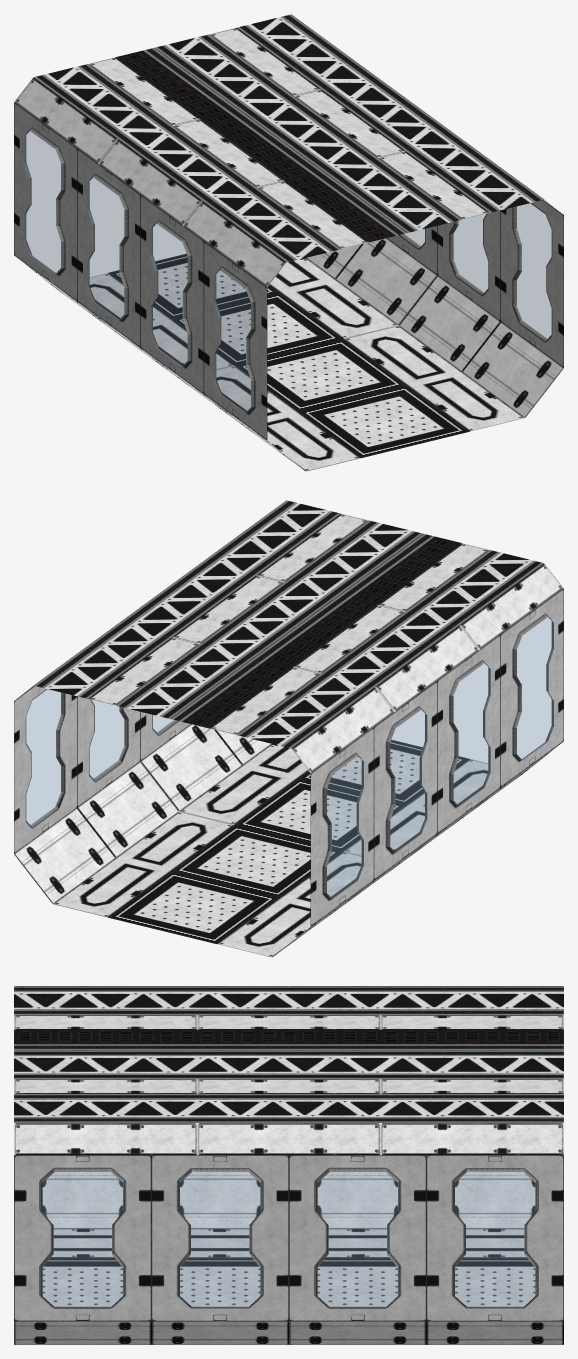
The model's file is sci_corridor.fbx.
The picture shows the model from 3 angles, top to bottom: view 1: azimuth 30°, elevation 25°; view 2: azimuth 150°, elevation 25°; view 3: azimuth 270°, elevation 25°; orthographic projection. The views are drawn at different scales.
Visible parts, largest first — view 1: corridor_windows_straight, corridor_windows_windows; view 2: corridor_windows_straight, corridor_windows_windows; view 3: corridor_windows_straight, corridor_windows_windows.
Boxes of the visible parts, left/top/right/bottom form: corridor_windows_straight: left=14, top=14, right=563, bottom=471; corridor_windows_windows: left=24, top=131, right=551, bottom=412; corridor_windows_straight: left=14, top=500, right=563, bottom=957; corridor_windows_windows: left=26, top=617, right=553, bottom=898; corridor_windows_straight: left=14, top=986, right=563, bottom=1344; corridor_windows_windows: left=43, top=1172, right=534, bottom=1307.
Bounding box in the file's own units: 400 × 276 × 186.
2 materials, 1 textured.
